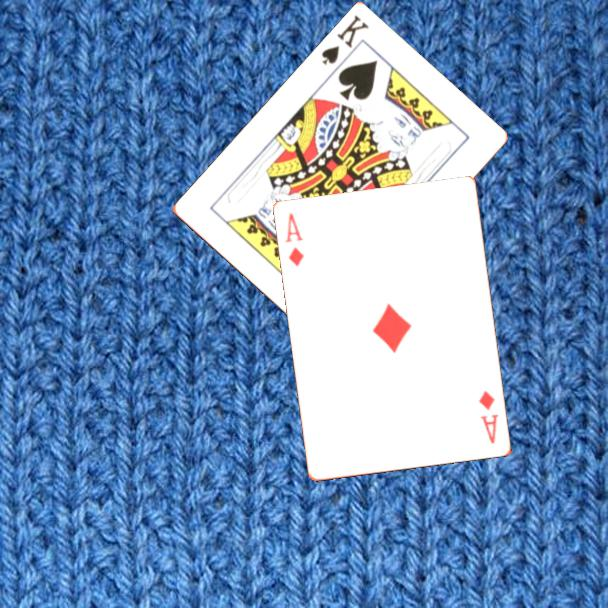d01: (476, 387, 502, 447), (282, 209, 307, 269)
s13: (318, 12, 372, 69)
